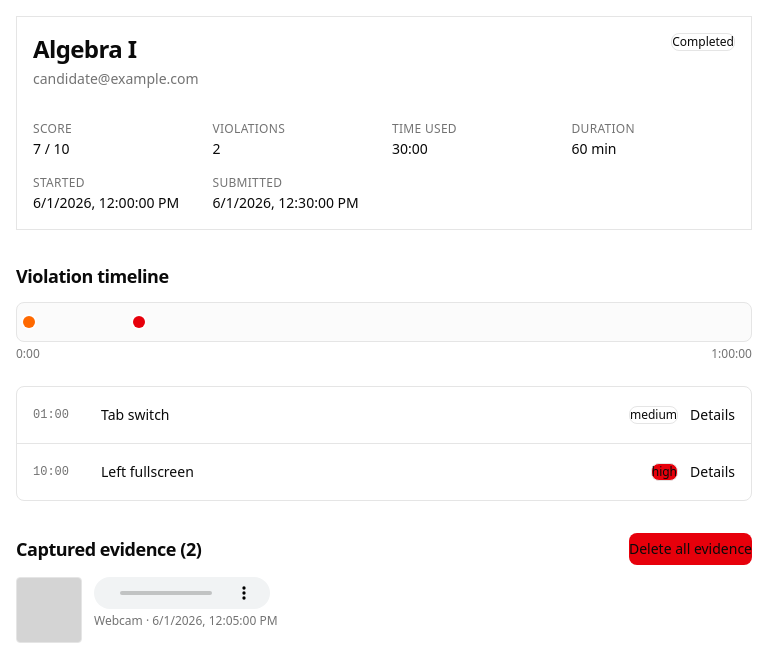
Test: AttemptReportView › runs the permanent-delete action when confirmed
This screenshot has width=769, height=660.
Click the button "Delete all evidence".
click(690, 549)  # box [629, 533, 752, 565]
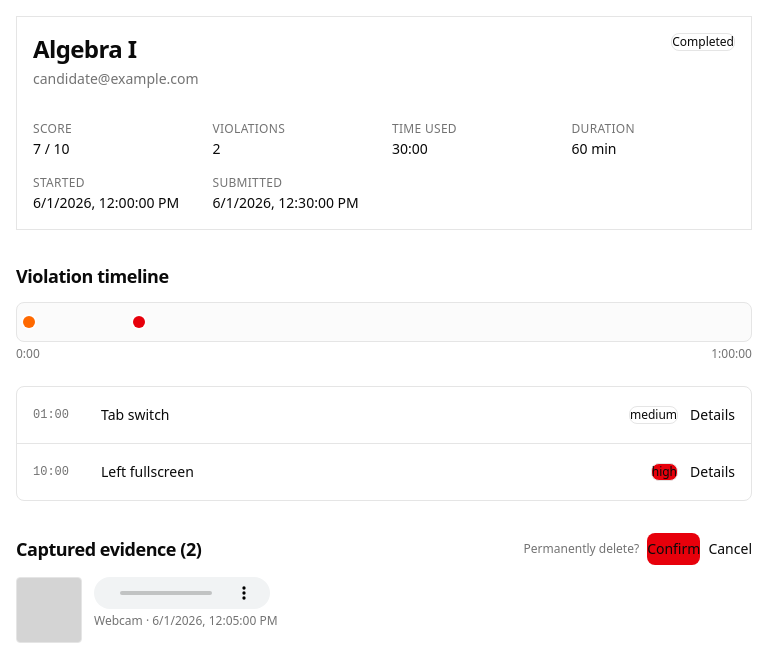
// Two-step confirm guards the irreversible action.
Click the button "Confirm".
click(674, 549)  # box [647, 533, 700, 565]
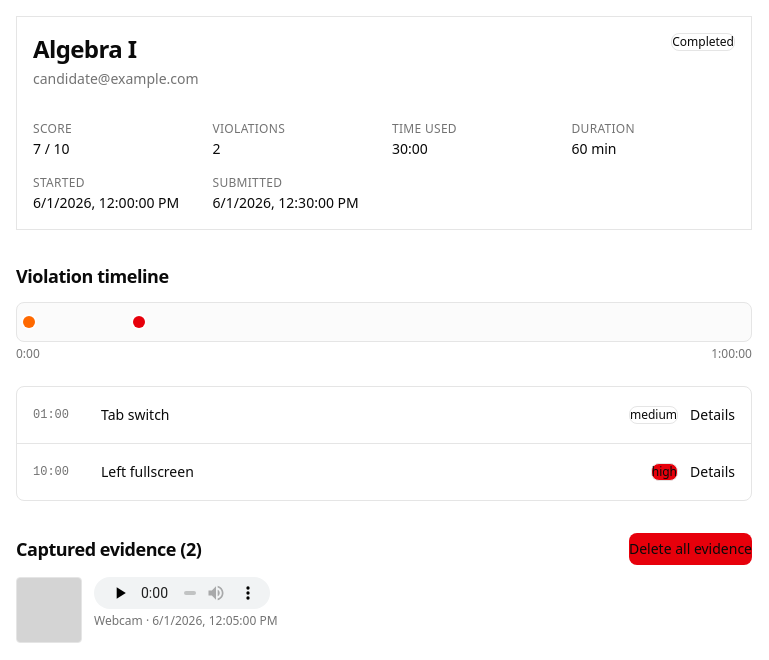
Expected: the button "Confirm" is gone
